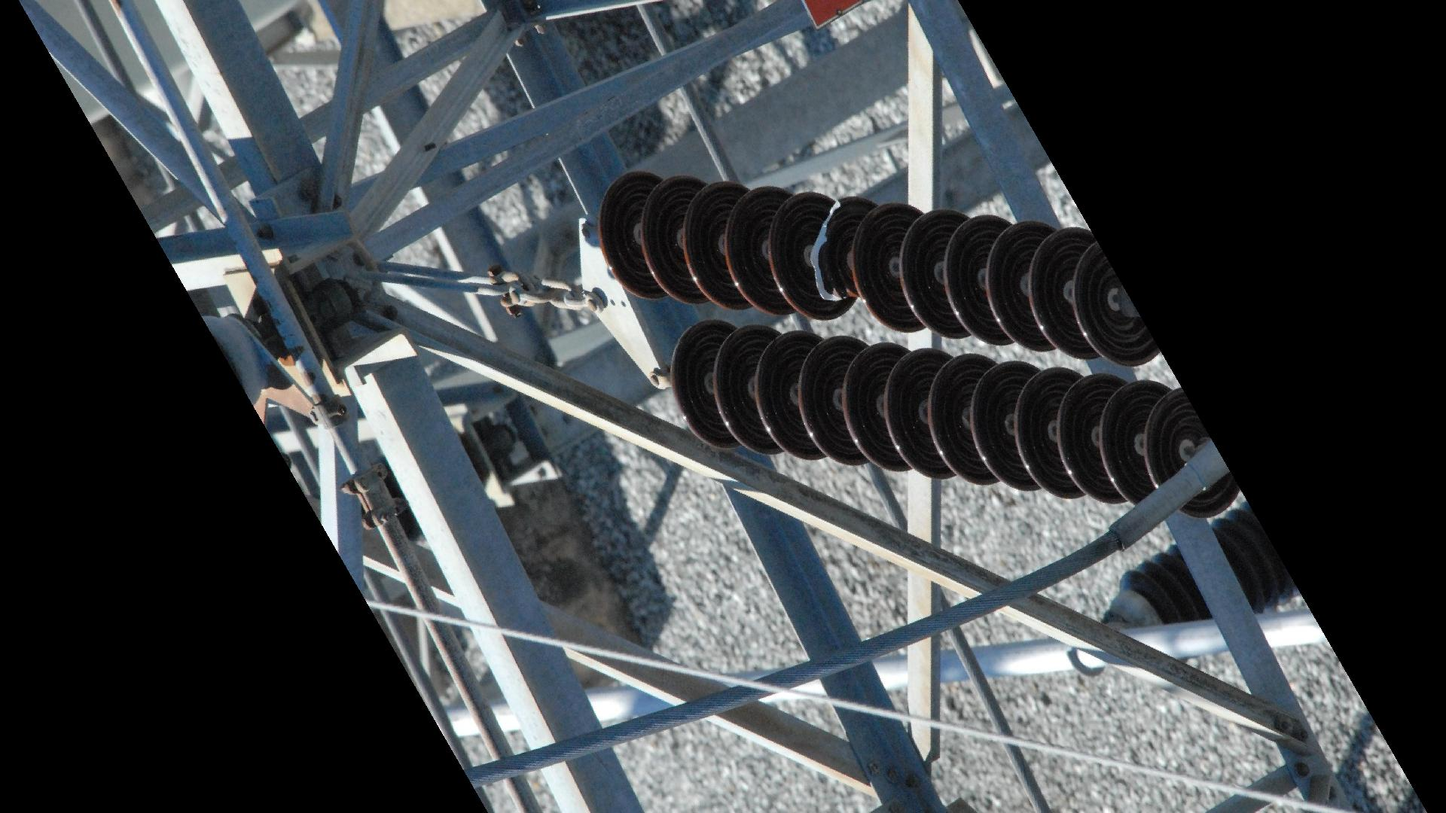insulator: (662, 311, 1246, 528), (591, 165, 1169, 375)
insulator_breakage: (807, 188, 853, 308)
